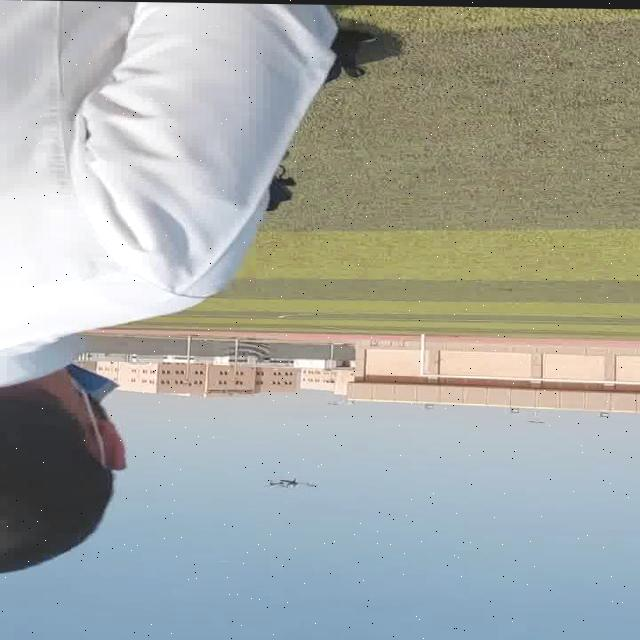drone: (258, 476, 318, 497)
